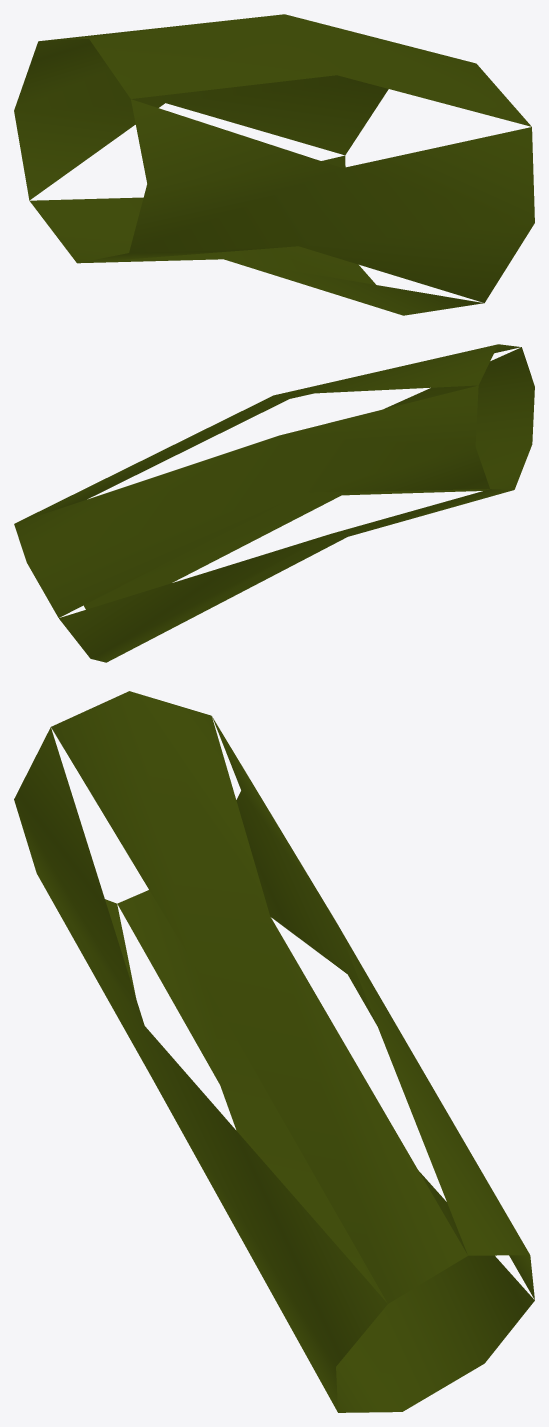
The model's file is planta-001.gltf.
3 views of the same model, one above another, from view 1: azimuth 30°, elevation 25°; view 2: azimuth 150°, elevation 25°; view 3: azimuth 270°, elevation 25° (orthographic). The views are drawn at different scales.
Visible parts, largest first — view 1: Anim_Planta-f.001; view 2: Anim_Planta-f.001; view 3: Anim_Planta-f.001.
Boxes of the visible parts, x1,y1,x2,y2 form: Anim_Planta-f.001: (14,14,534,315); Anim_Planta-f.001: (14,344,534,662); Anim_Planta-f.001: (14,691,534,1412).
Size of the model in its own units: 2.03 by 1.58 by 1.5.
Materials: 1 (1 with a texture image).
